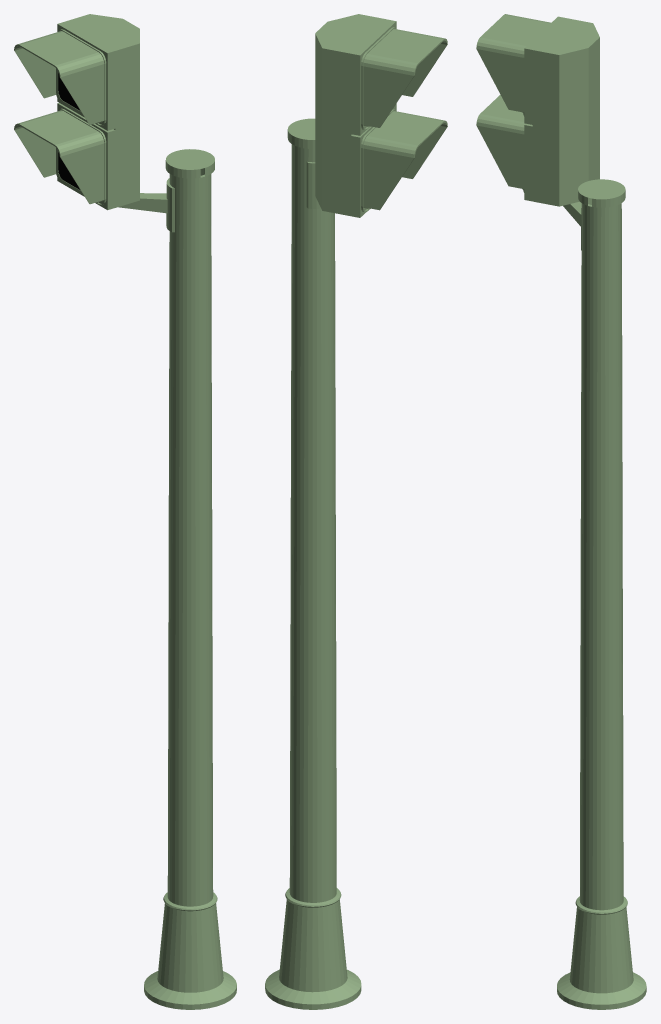
The model's file is w_highway_traffic_signals_pedestrian.glb.
3 views of the same model, side by side, from view 1: azimuth 30°, elevation 25°; view 2: azimuth 150°, elevation 25°; view 3: azimuth 330°, elevation 25° (orthographic). The views are drawn at different scales.
Parts seen in each view (by area): view 1: semaforo (SU 2017); view 2: semaforo (SU 2017); view 3: semaforo (SU 2017).
Boxes of the visible parts, x1,y1,x2,y2 form: semaforo (SU 2017): [14, 14, 236, 1009]; semaforo (SU 2017): [265, 14, 447, 1009]; semaforo (SU 2017): [476, 14, 646, 1009].
Bounding box in the file's own units: 0.4863 × 2.51 × 0.3289.
4 materials, 2 textured.
